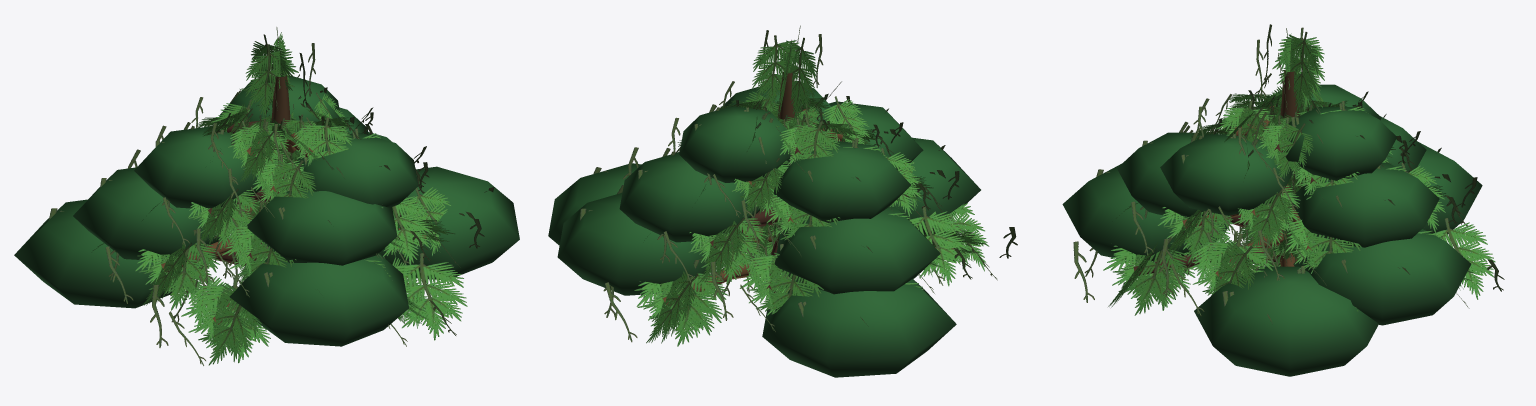
The model's file is qh_pin.9b3d86e647.glb.
The picture shows the model from 3 angles, left to right: view 1: azimuth 30°, elevation 25°; view 2: azimuth 150°, elevation 25°; view 3: azimuth 270°, elevation 25°; orthographic projection. The views are drawn at different scales.
Parts seen in each view (by area): view 1: masse, feuilles, tronc, loin; view 2: masse, feuilles, tronc, loin; view 3: masse, feuilles, tronc, loin.
Boxes of the visible parts, x1,y1,x2,y2 form: masse: (14,75,519,346); feuilles: (59,27,486,365); tronc: (161,75,426,324); loin: (49,74,494,287); masse: (548,86,980,377); feuilles: (588,25,1017,346); tronc: (662,72,955,305); loin: (580,94,945,326); masse: (1062,84,1482,376); feuilles: (1073,24,1504,315); tronc: (1133,70,1318,278); loin: (1096,92,1450,323).
Size of the model in its own units: 1.56 by 1 by 1.49.
Materials: 4 (2 with a texture image).
